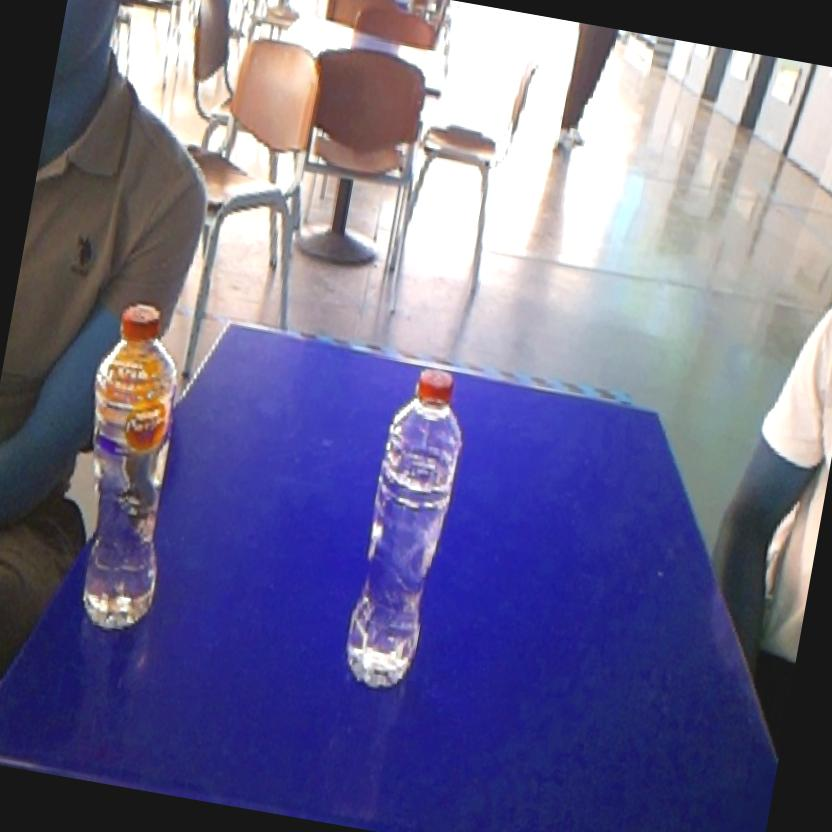no_label: (325, 349, 490, 703)
